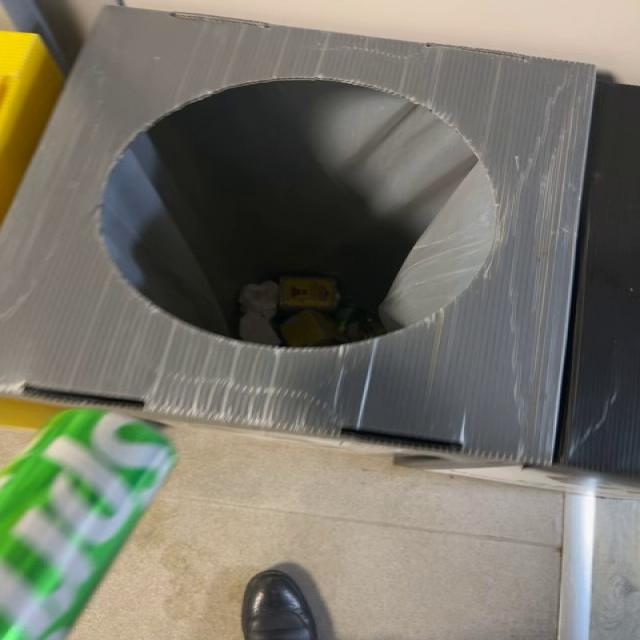bin: (3, 7, 595, 466)
metal: (1, 410, 176, 640)
